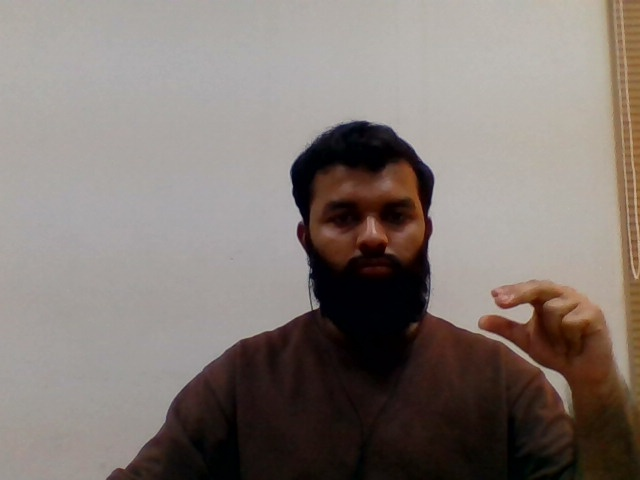No: (467, 270, 629, 390)
